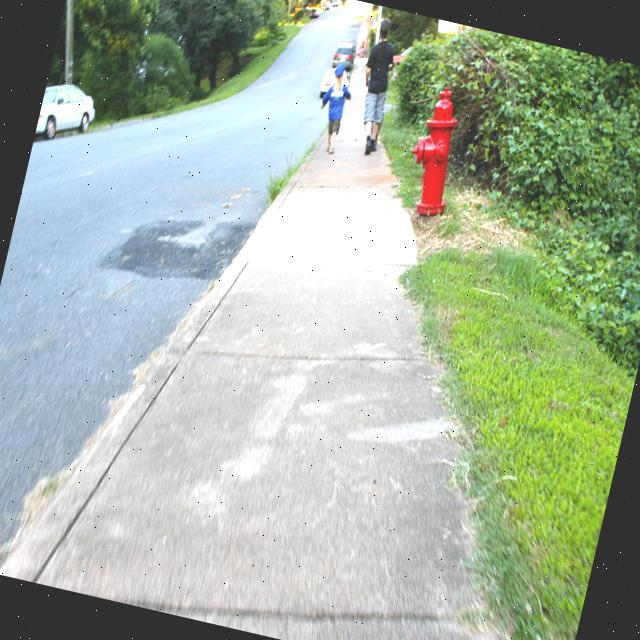fire_hydrant: (397, 80, 472, 222)
